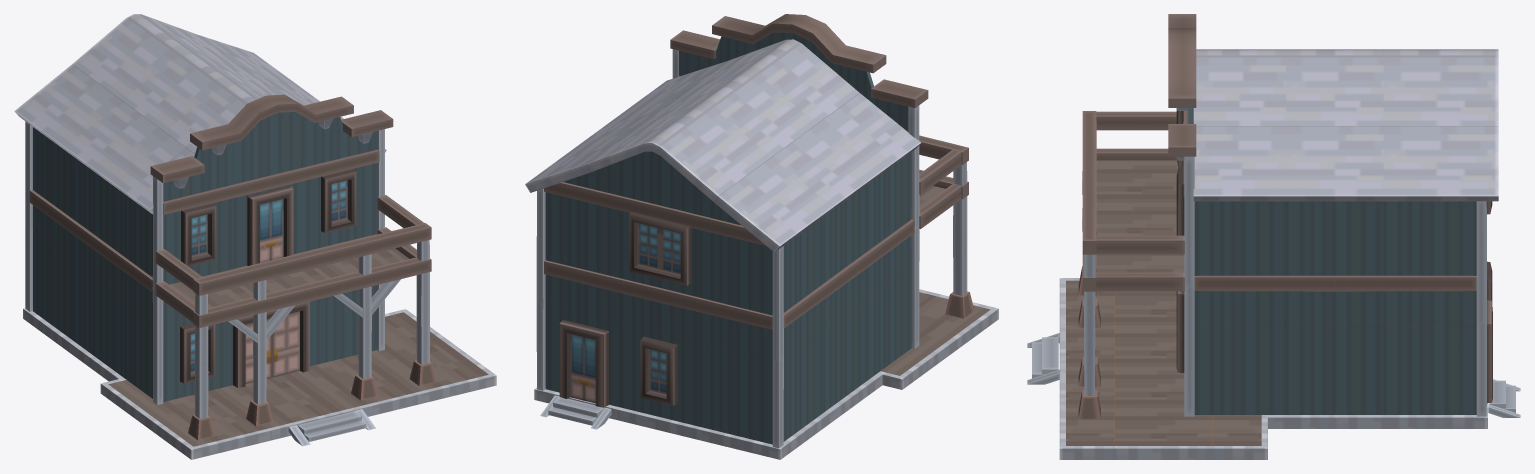
Rendered from house_v3_016.fbx.
3 renders of one model, left to right at view 1: azimuth 30°, elevation 25°; view 2: azimuth 150°, elevation 25°; view 3: azimuth 270°, elevation 25°, orthographic. The views are drawn at different scales.
Visible parts, largest first — view 1: house_v3_016; view 2: house_v3_016; view 3: house_v3_016.
Boxes of the visible parts, x1=… form: house_v3_016: x1=14, y1=14, x2=496, y2=459; house_v3_016: x1=525, y1=14, x2=998, y2=459; house_v3_016: x1=1027, y1=14, x2=1520, y2=459.
Bounding box in the file's own units: 826 × 745 × 1009.
